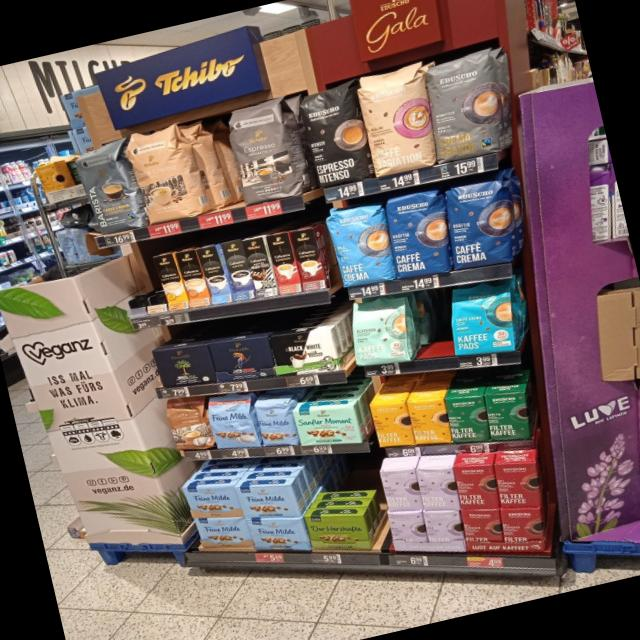BM Gemahlen: (151, 334, 218, 396)
BW Gemahlen: (267, 319, 344, 382)
Barista CC: (70, 140, 146, 239)
CC Mild: (124, 121, 202, 226)
CC Vollmundig: (161, 396, 215, 450)
Espresso Aromatisch: (222, 94, 306, 206)
FM 36 Pads: (205, 392, 262, 449)
FM Bohne: (251, 396, 301, 447)
FM Gemahlen: (181, 480, 244, 519), (234, 482, 302, 518), (244, 517, 311, 551), (194, 517, 255, 548)
Herzhatfe Mundig: (303, 513, 372, 550)
LG Bohne: (208, 329, 276, 389)
SM Gemahlen: (292, 394, 365, 456)
Simo CCMild bigpack: (151, 252, 190, 310)
Simo CCVollmundig bigpack: (174, 248, 211, 307)
Simo Es Brazil: (265, 231, 303, 295)
Simo Es Caramel: (289, 226, 327, 292)
Simo Es Elegant: (241, 235, 278, 298)
Simo Es Kraft: (220, 238, 256, 300)
Simo Es Vanilla: (195, 244, 233, 303)
